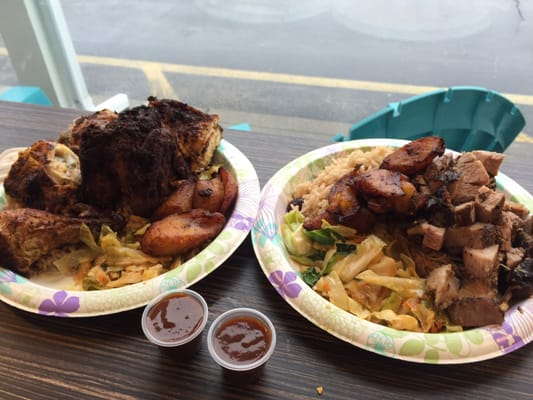soup: (0, 97, 243, 296)
sushi: (249, 134, 533, 366), (207, 308, 277, 372), (141, 290, 209, 348)
